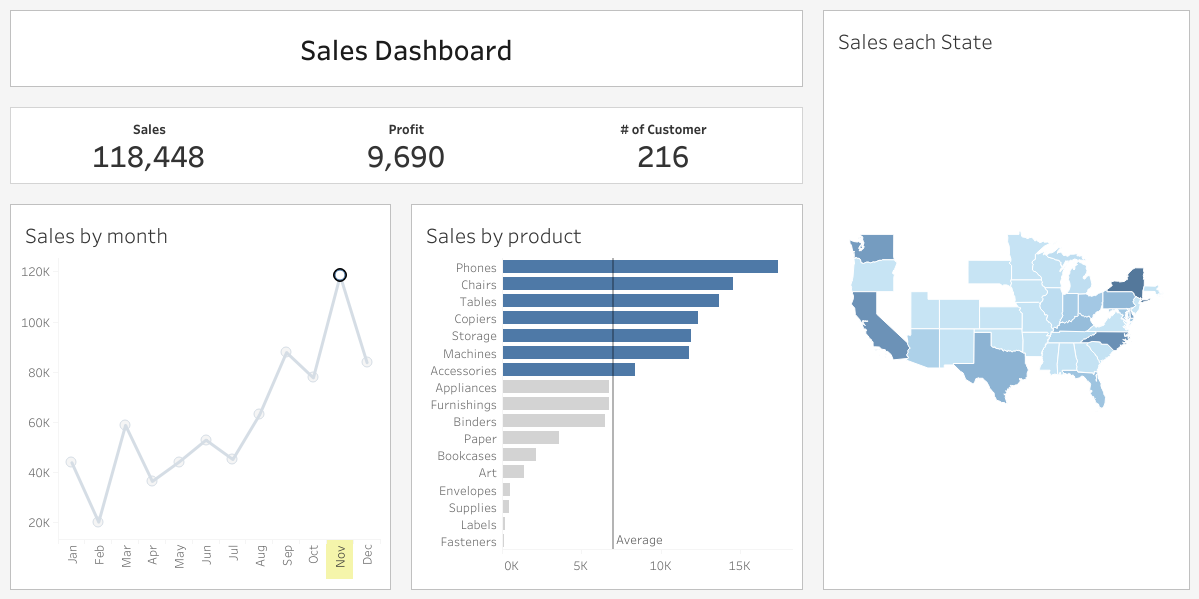

This screenshot's page, from the dashboard's own definition file:
{"tool":"tableau","page":{"name":"Dashboard 1","canvas":[1000,1000],"units":"permille","ordinal":0},"visuals":[{"type":"text","box":[0,0,677.5,161.7]},{"type":"worksheet","title":"Sales each State","mark":"Automatic","box":[677.5,0,322.5,1000]},{"type":"worksheet","title":"KPIs","mark":"Automatic","box":[0,161.7,677.5,161.7]},{"type":"worksheet","title":"Sales by month","mark":"Automatic","rows":["sales","sales"],"cols":["order_date"],"box":[0,323.3,334.2,676.6]},{"type":"worksheet","title":"Sales by product","mark":"Automatic","rows":["subcategory"],"cols":["sales"],"box":[334.2,323.3,343.3,676.6]}]}

Visuals, with their boxes on the dashboard's canvas, which has no fixed pixel size, in thousandths of its width and height (x1, y1, x2, y2). These are canvas units, not pixel positions in the 1199x599 screenshot, which may show the page scaled, cropped or inside an application window:
text: (0,0,678,162)
"Sales each State" worksheet: (678,0,1000,1000)
"KPIs" worksheet: (0,162,678,323)
"Sales by month" worksheet: (0,323,334,1000)
"Sales by product" worksheet: (334,323,678,1000)
